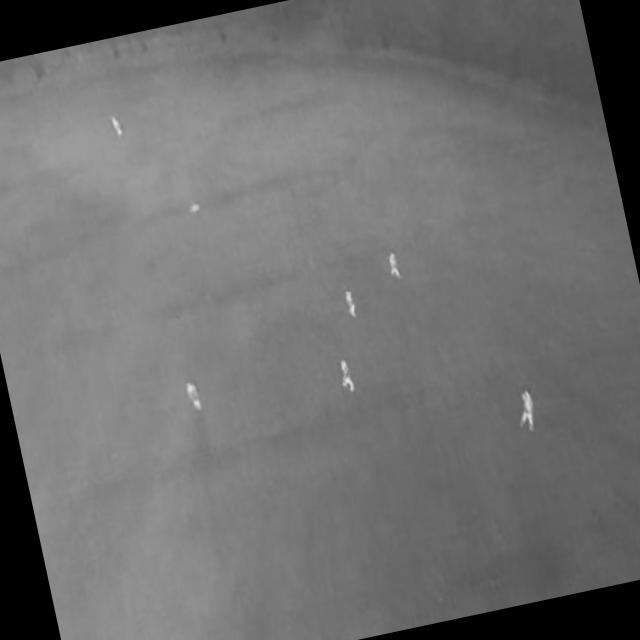person: (513, 391, 539, 435), (337, 359, 356, 396), (184, 380, 203, 415), (342, 289, 358, 320), (386, 251, 402, 281), (109, 112, 124, 139)
